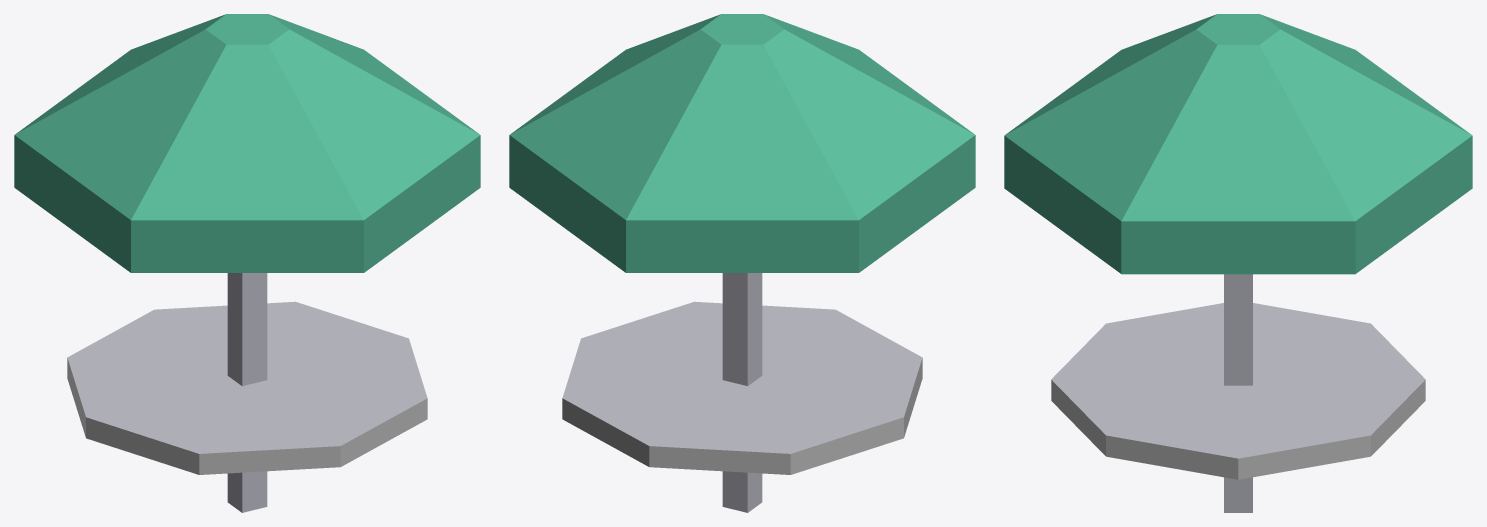
The model's file is detail_umbrella.fbx.
The picture shows the model from 3 angles, left to right: view 1: azimuth 30°, elevation 25°; view 2: azimuth 150°, elevation 25°; view 3: azimuth 270°, elevation 25°; orthographic projection.
Parts seen in each view (by area): view 1: detail_umbrella; view 2: detail_umbrella; view 3: detail_umbrella.
Part boxes in pixels (x1,y1,x2,y2): detail_umbrella: (14, 14, 480, 512); detail_umbrella: (509, 14, 975, 512); detail_umbrella: (1004, 14, 1472, 512).
Size of the model in its own units: 3.46 by 4.5 by 4.
